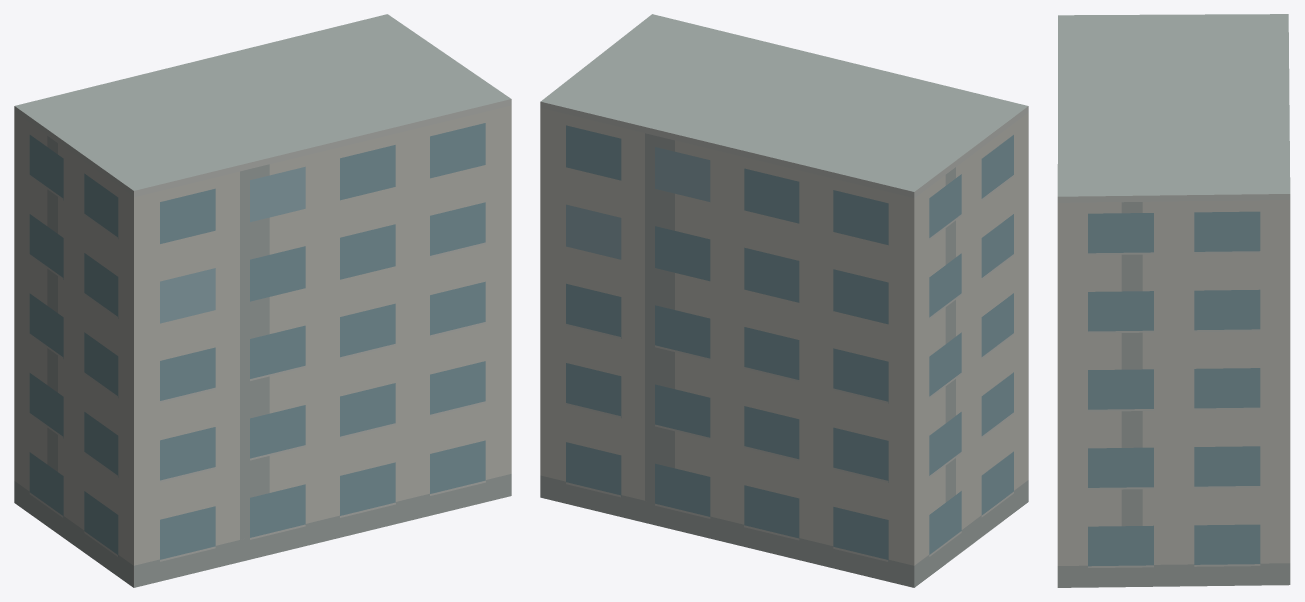
The model's file is survey-upis-32574517.glb.
3 views of the same model, side by side, from view 1: azimuth 30°, elevation 25°; view 2: azimuth 150°, elevation 25°; view 3: azimuth 270°, elevation 25° (orthographic).
Parts seen in each view (by area): view 1: survey-upis-32574517.tmp; view 2: survey-upis-32574517.tmp; view 3: survey-upis-32574517.tmp.
Boxes of the visible parts, left/top/right/bottom form: survey-upis-32574517.tmp: left=14, top=14, right=511, bottom=587; survey-upis-32574517.tmp: left=540, top=14, right=1028, bottom=587; survey-upis-32574517.tmp: left=1057, top=14, right=1290, bottom=587.
Bounding box in the file's own units: 15.28 × 15.25 × 8.24.
